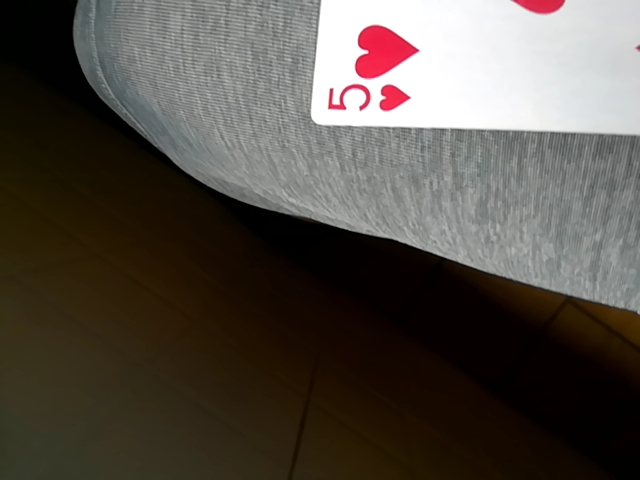hx 5: (308, 0, 639, 137)
